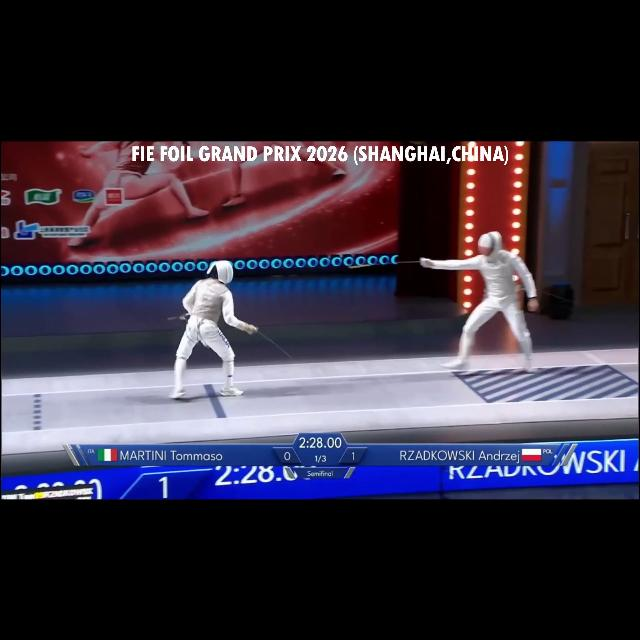blade: (244, 323, 296, 362), (345, 255, 433, 277)
